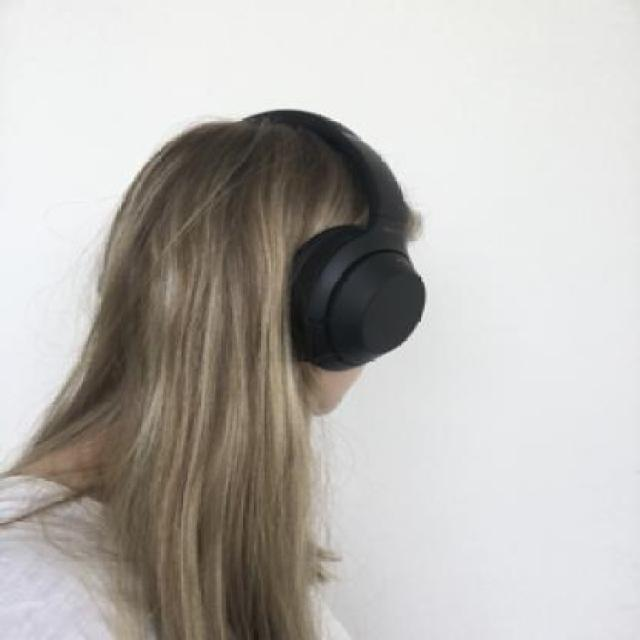earphone: (230, 95, 450, 398)
